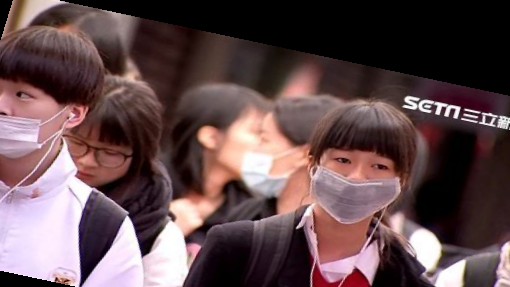mask_weared_incorrect: (299, 91, 423, 228), (1, 17, 106, 163)
